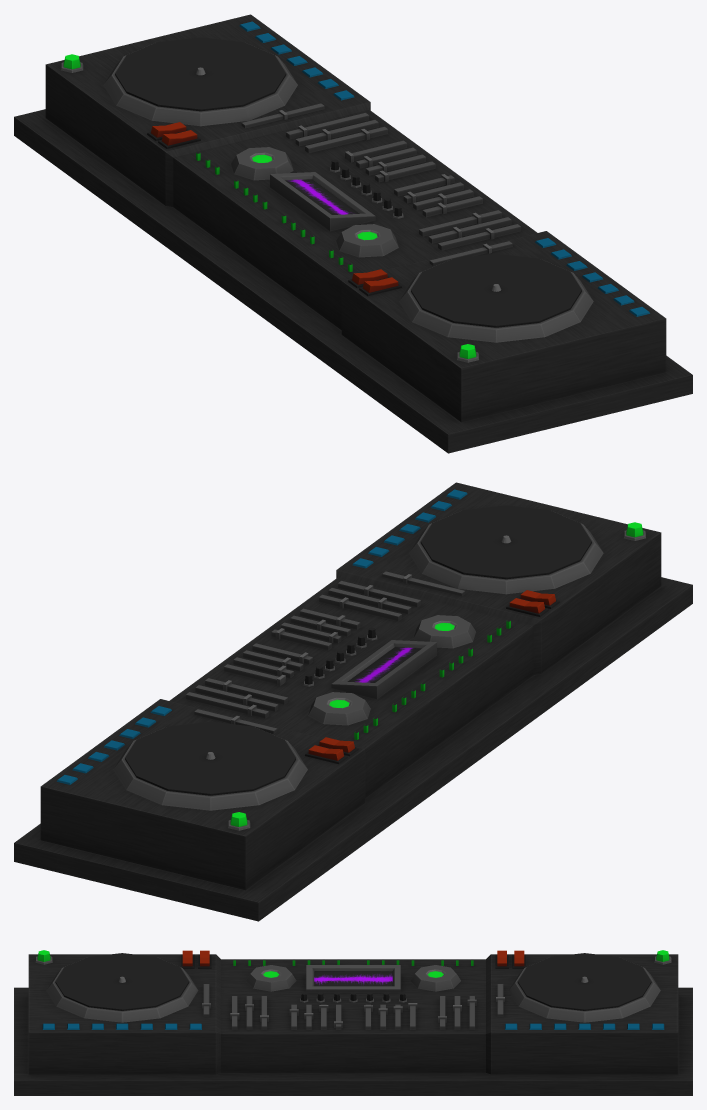
File: DjDeck.glb
3 renders of one model, top to bottom at view 1: azimuth 30°, elevation 25°; view 2: azimuth 150°, elevation 25°; view 3: azimuth 270°, elevation 25°, orthographic. The views are drawn at different scales.
Visible parts, largest first — view 1: DJGear_mesh; view 2: DJGear_mesh; view 3: DJGear_mesh.
Boxes of the visible parts, bbox=[...] form: DJGear_mesh: bbox=[14, 14, 692, 453]; DJGear_mesh: bbox=[14, 482, 692, 921]; DJGear_mesh: bbox=[14, 950, 692, 1095].
Size of the model in its own units: 5.37 by 1.87 by 16.51.
1 material, 1 textured.
